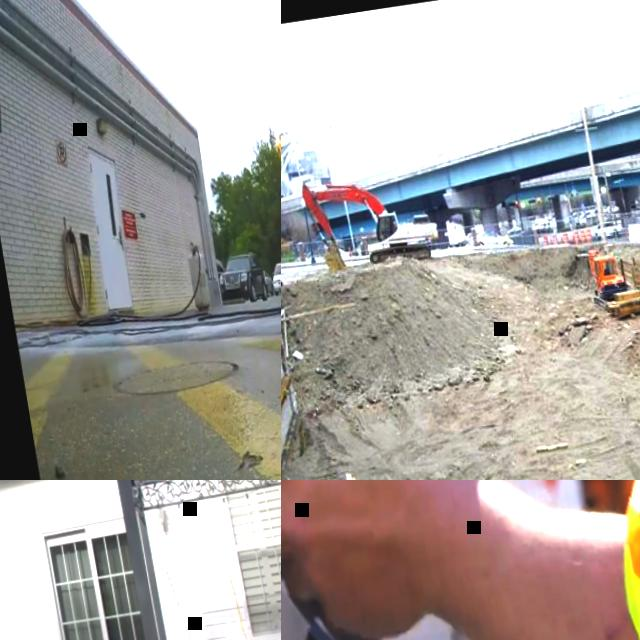Hardhat: (281, 480, 518, 640)
Person: (281, 480, 640, 640)
Safety Cone: (585, 229, 593, 242), (580, 230, 587, 244), (572, 231, 579, 244), (551, 233, 558, 245), (562, 233, 569, 243), (542, 235, 548, 245)
Safety Vest: (550, 480, 640, 640)
vehicle: (298, 159, 444, 281), (584, 239, 640, 319), (215, 250, 267, 306), (580, 61, 640, 106), (470, 226, 515, 250), (592, 219, 618, 239), (269, 259, 281, 295), (214, 257, 225, 282), (264, 271, 274, 296)
